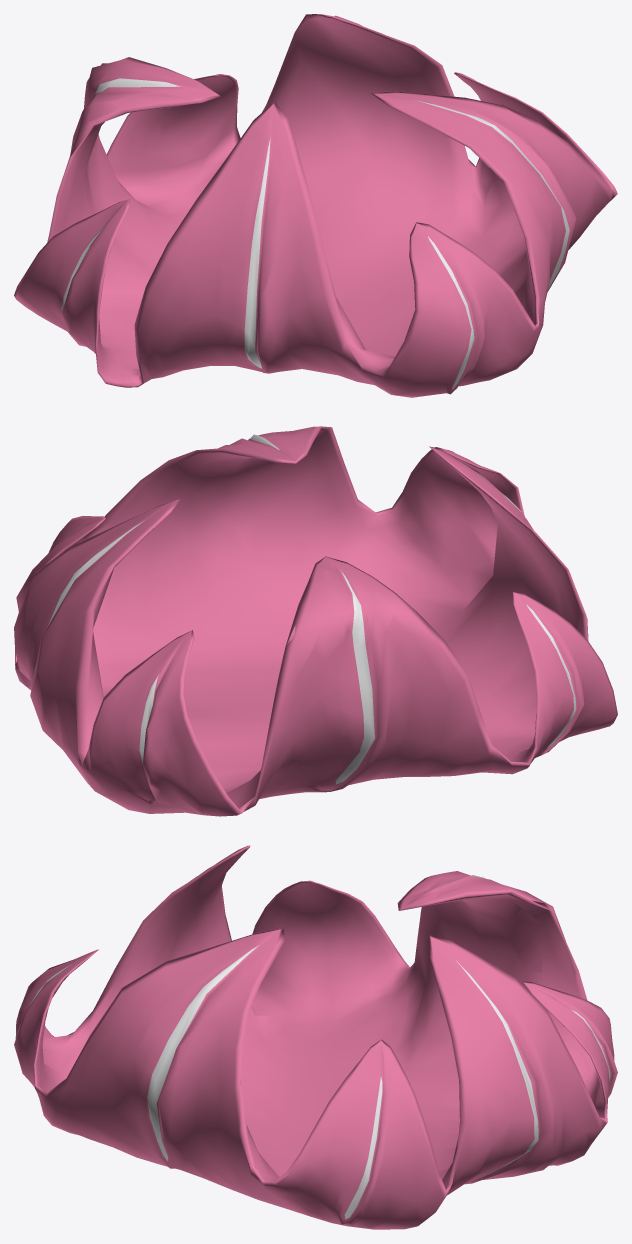
Rendered from Lotus.fbx.
3 views of the same model, one above another, from view 1: azimuth 30°, elevation 25°; view 2: azimuth 150°, elevation 25°; view 3: azimuth 270°, elevation 25° (orthographic). The views are drawn at different scales.
Parts seen in each view (by area): view 1: polySurface11; view 2: polySurface11; view 3: polySurface11.
Part boxes in pixels (x1,y1,x2,y2): polySurface11: [14, 14, 617, 397]; polySurface11: [14, 426, 617, 816]; polySurface11: [14, 845, 617, 1229].
Size of the model in its own units: 13.83 by 6.6 by 14.13.
